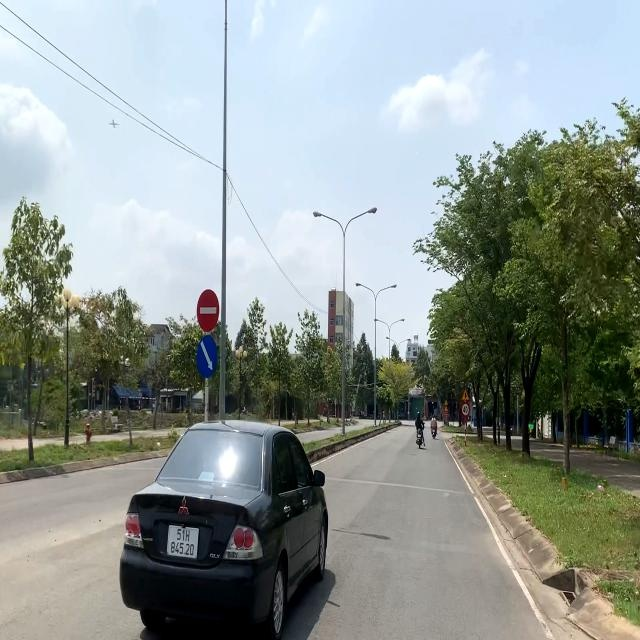bien_cam: (196, 286, 220, 334), (195, 334, 218, 378), (461, 388, 470, 401), (462, 403, 469, 417)
